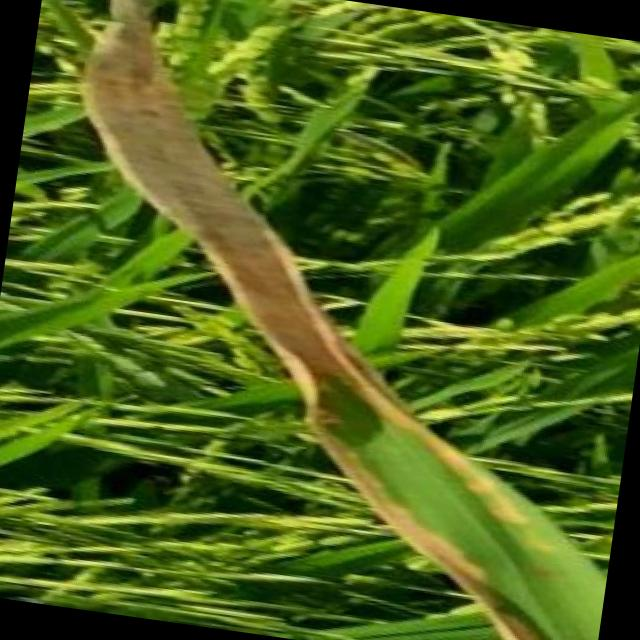Rice_Bacterial_Blight: (265, 341, 613, 640)
